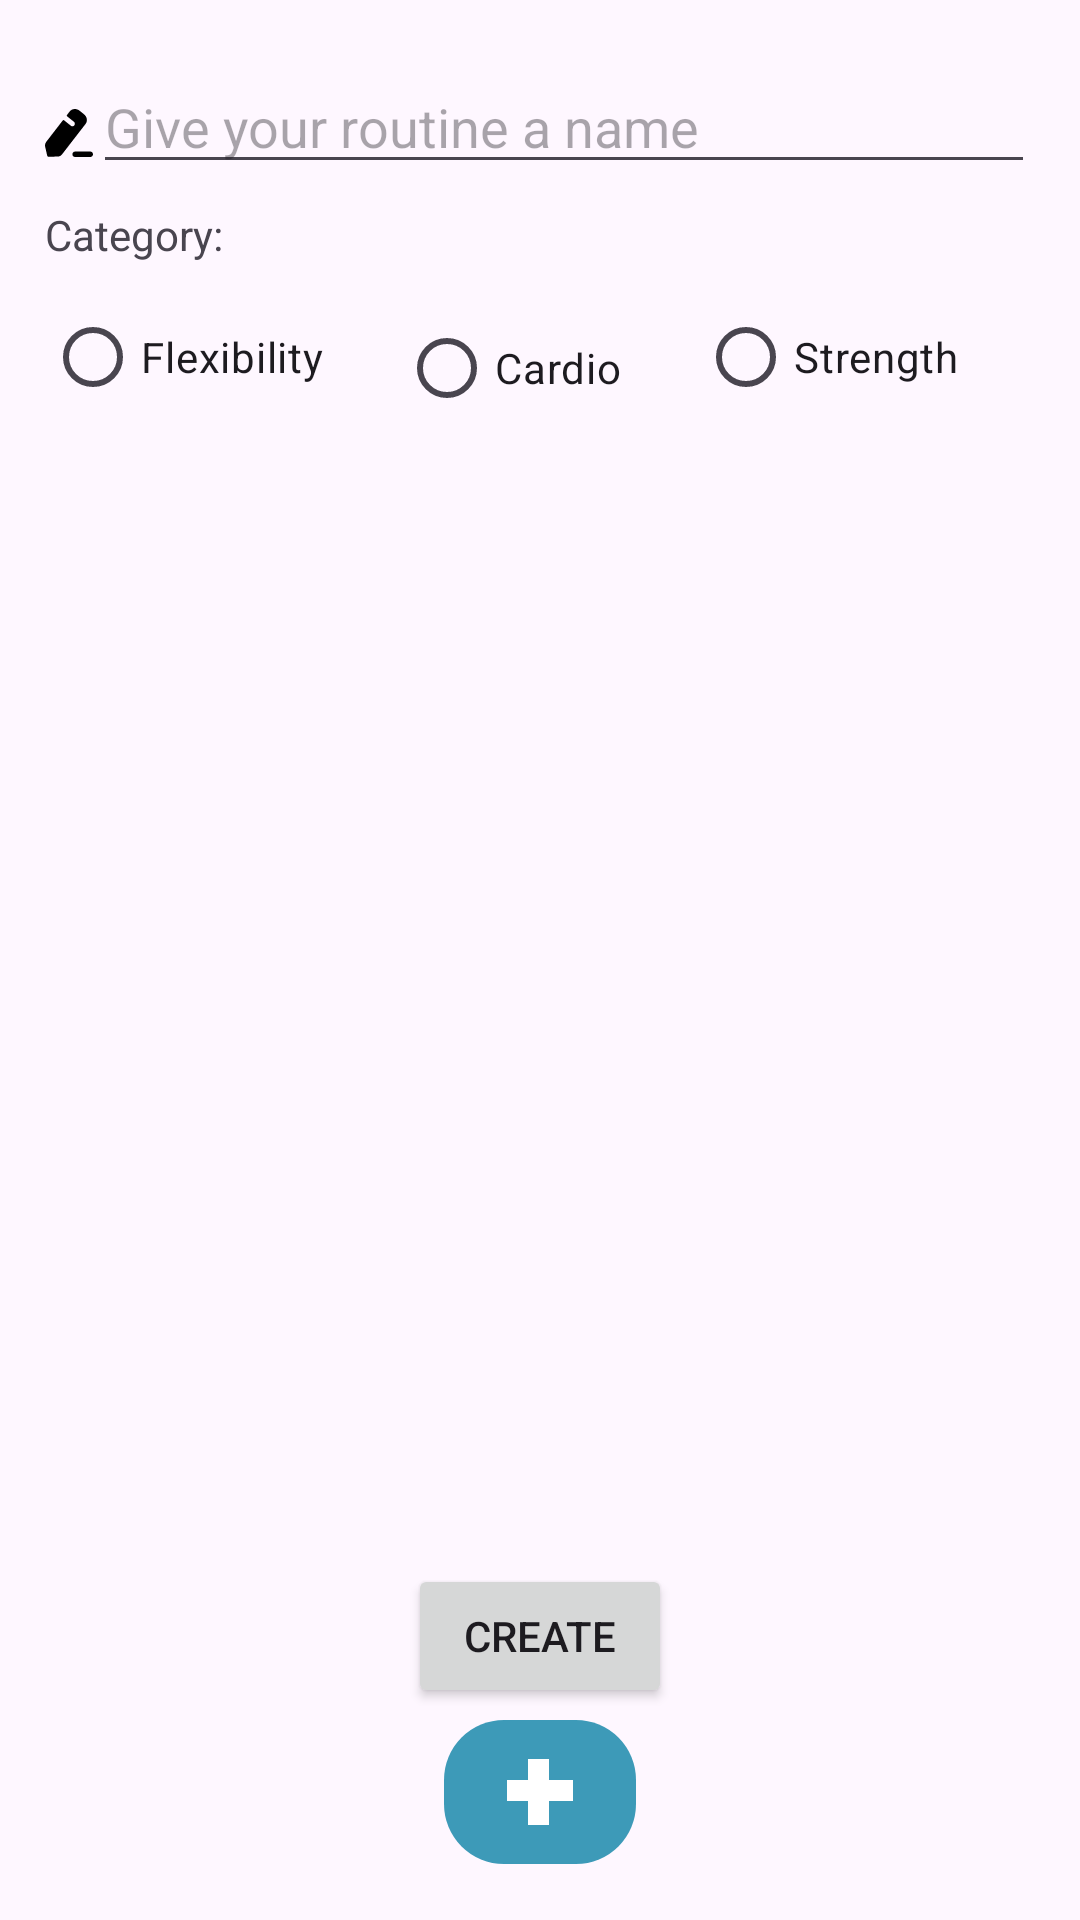

Icons on this 1080 x 1920 Android screen, each with the point to tap as (x=x, y=y):
addition: (x=540, y=1792)
edit: (x=69, y=133)
